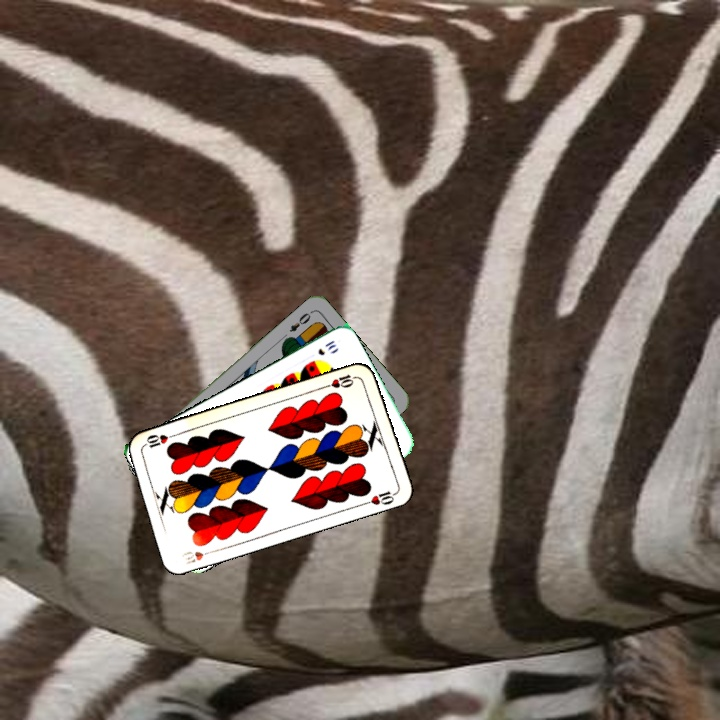EO: (285, 307, 315, 335)
H10: (321, 370, 361, 391), (178, 546, 217, 567)
S10: (314, 336, 339, 358)
